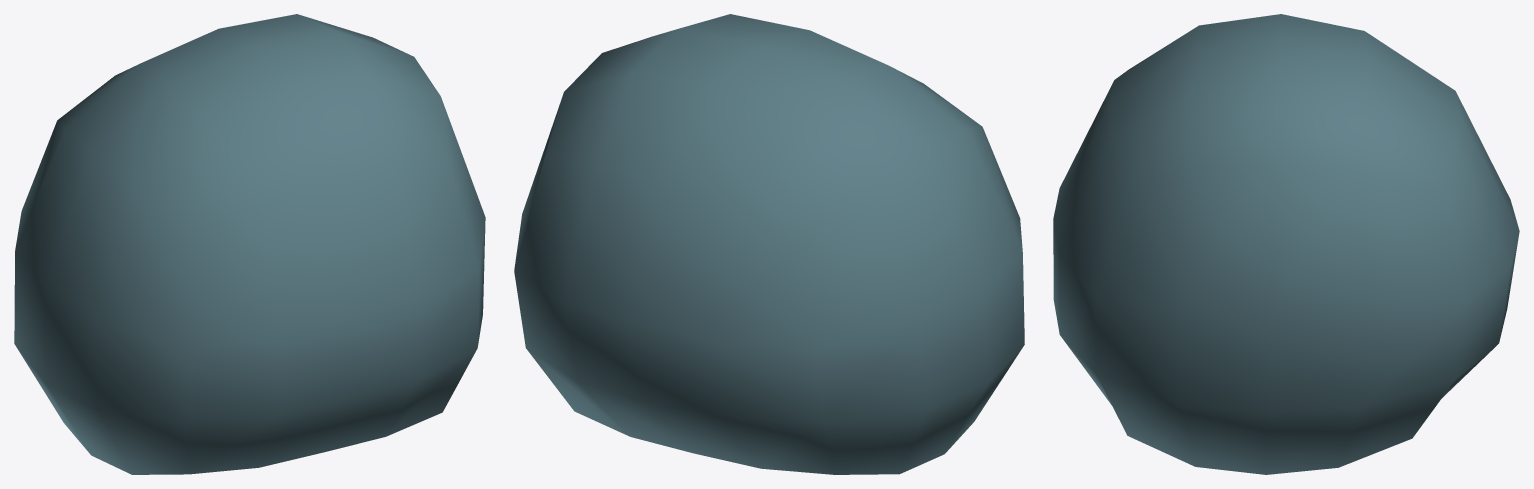
The model's file is Rock_C_01_LOD2.gltf.
The picture shows the model from 3 angles, left to right: view 1: azimuth 30°, elevation 25°; view 2: azimuth 150°, elevation 25°; view 3: azimuth 270°, elevation 25°; orthographic projection. The views are drawn at different scales.
Visible parts, largest first — view 1: Rock_C_01_LOD2_Cube.760; view 2: Rock_C_01_LOD2_Cube.760; view 3: Rock_C_01_LOD2_Cube.760.
Boxes of the visible parts, <box> form: Rock_C_01_LOD2_Cube.760: <box>14,14,485,474</box>; Rock_C_01_LOD2_Cube.760: <box>514,14,1024,474</box>; Rock_C_01_LOD2_Cube.760: <box>1053,14,1519,474</box>.
Bounding box in the file's own units: 4.16 × 3.58 × 4.03.
Materials: 1 (1 with a texture image).
